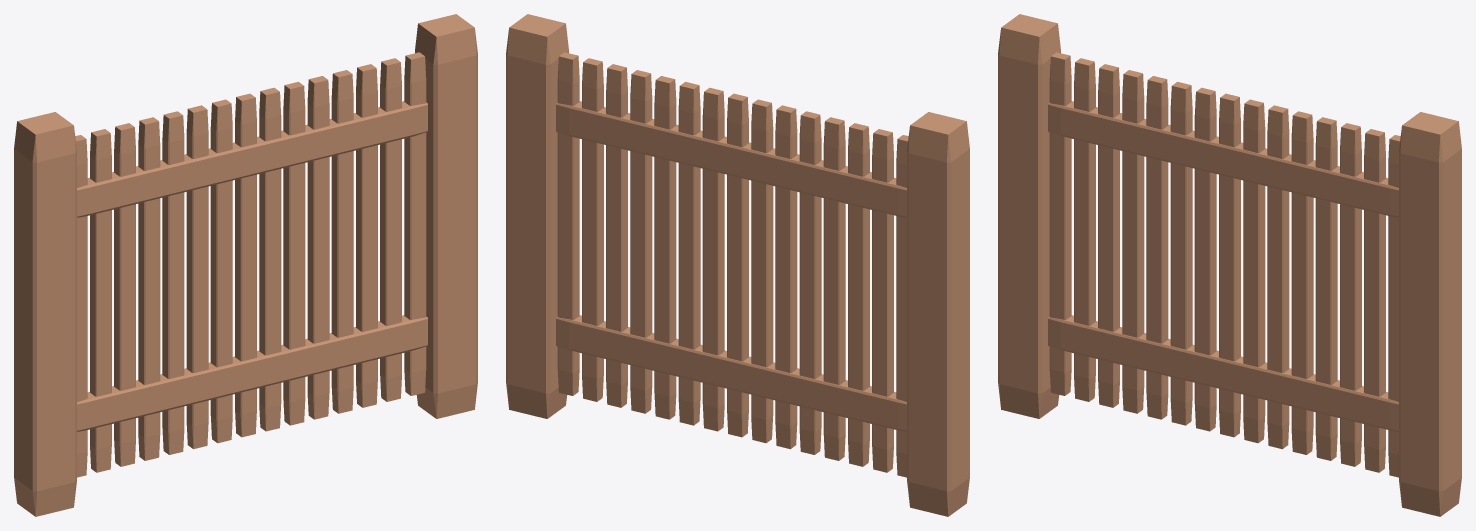
File: b19_garden_boundary_trellis.glb
3 views of the same model, side by side, from view 1: azimuth 30°, elevation 25°; view 2: azimuth 150°, elevation 25°; view 3: azimuth 330°, elevation 25° (orthographic).
Parts seen in each view (by area): view 1: b19_garden_boundary_trellis; view 2: b19_garden_boundary_trellis; view 3: b19_garden_boundary_trellis.
Boxes of the visible parts, <box> form: b19_garden_boundary_trellis: <box>14,14,477,516</box>; b19_garden_boundary_trellis: <box>506,14,969,516</box>; b19_garden_boundary_trellis: <box>998,14,1461,516</box>.
Size of the model in its own units: 2.65 by 2.17 by 0.222.
